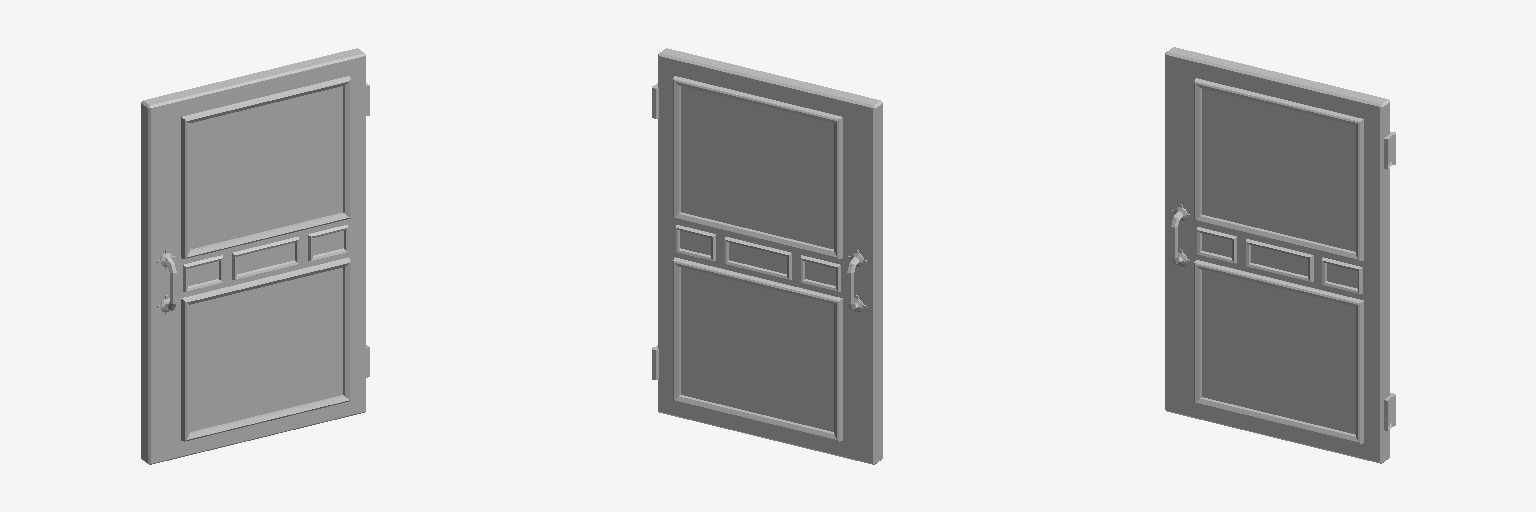
Rendered from mansion_door.obj.
The picture shows the model from 3 angles: view 1: azimuth 30°, elevation 25°; view 2: azimuth 150°, elevation 25°; view 3: azimuth 330°, elevation 25°; orthographic projection.
Visible parts, largest first — view 1: mansion_door_mesh; view 2: mansion_door_mesh; view 3: mansion_door_mesh, mansion_door_hinges.
Boxes of the visible parts, x1,y1,x2,y2 form: mansion_door_mesh: [141, 48, 365, 464]; mansion_door_mesh: [658, 48, 882, 464]; mansion_door_mesh: [1165, 47, 1389, 463]; mansion_door_hinges: [1384, 132, 1395, 430].
Size of the model in its own units: 1.79 by 2.75 by 0.3624.